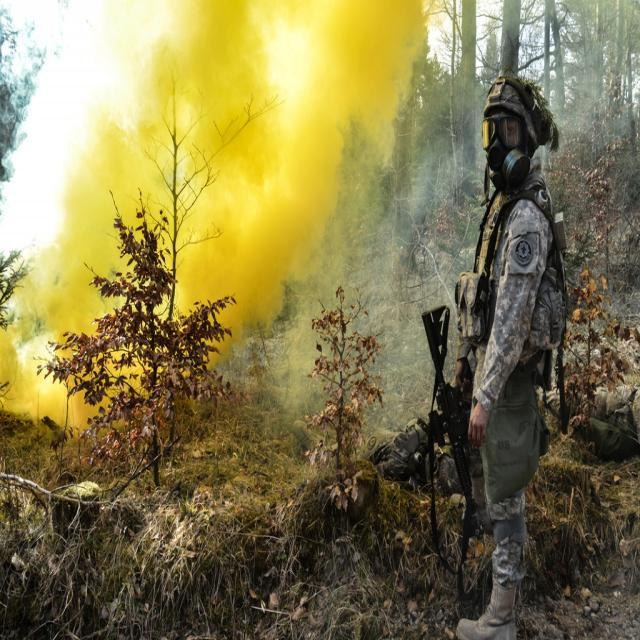weapon: (423, 304, 474, 538)
